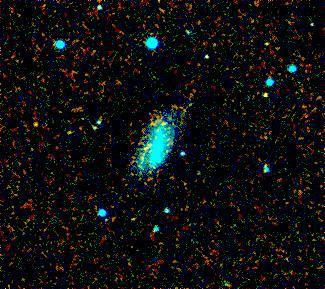star: (19, 109, 49, 139)
